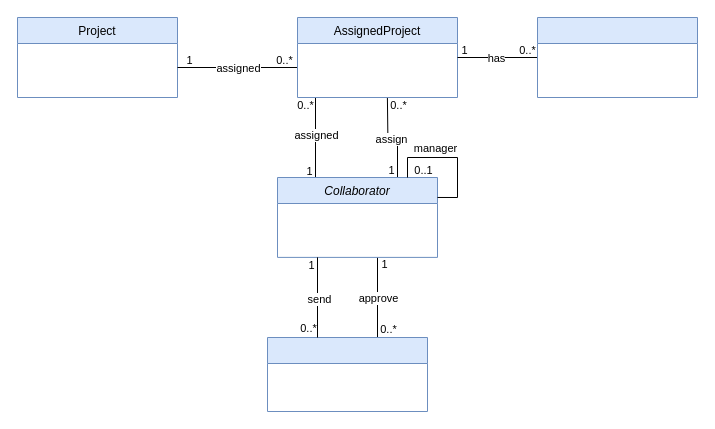
The diagram is 715 pixels wide and 429 high, and some of its shapes have lost their labels. The centre of each missing label's shape, as x and y in pixels:
"MonthlyTimesheetRequest" belongs at point 347,374.
"TimesheetEntry" belongs at point 617,57.
